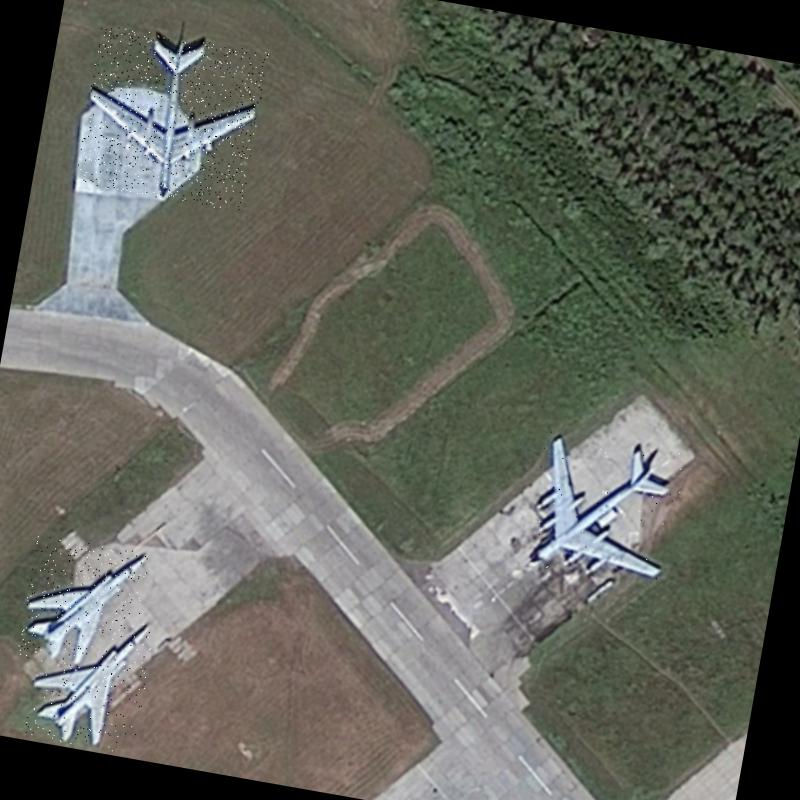A12: (23, 602, 157, 755), (16, 534, 150, 676)
A17: (74, 24, 270, 212), (523, 430, 687, 590)
